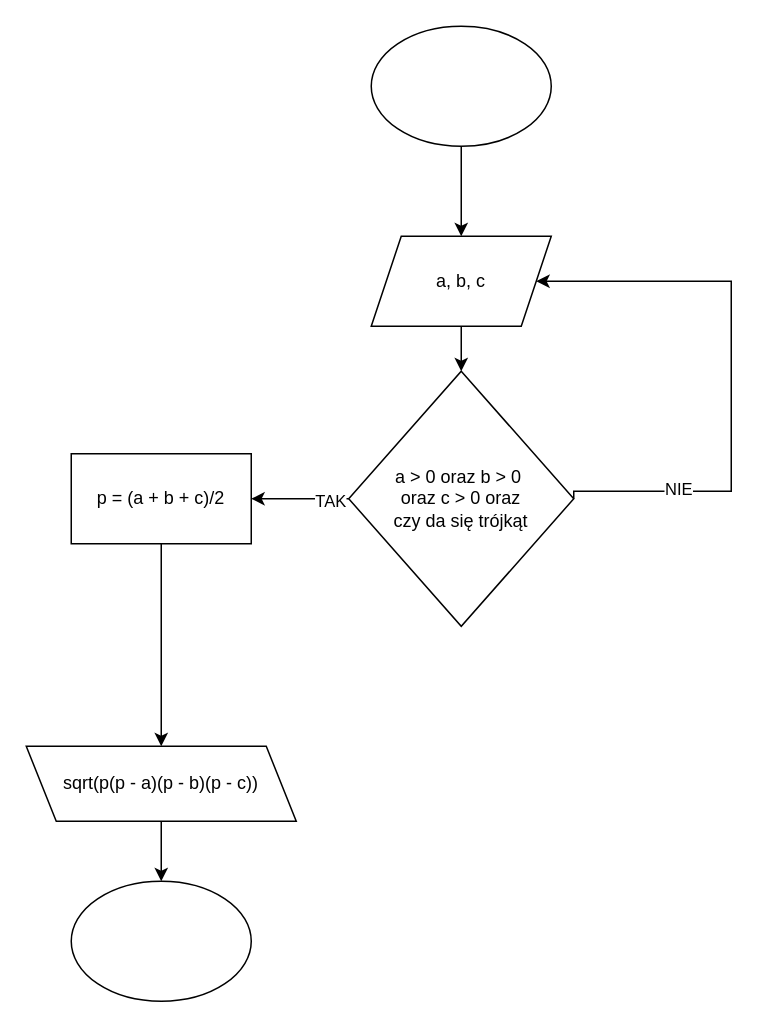
Image size: 770x1028. Some labels were removed from this diagram. The box of each missing label's shape, as (x1, y1, x2, y2) in pixels:
START: (370, 25, 551, 146)
STOP: (70, 880, 251, 1001)
